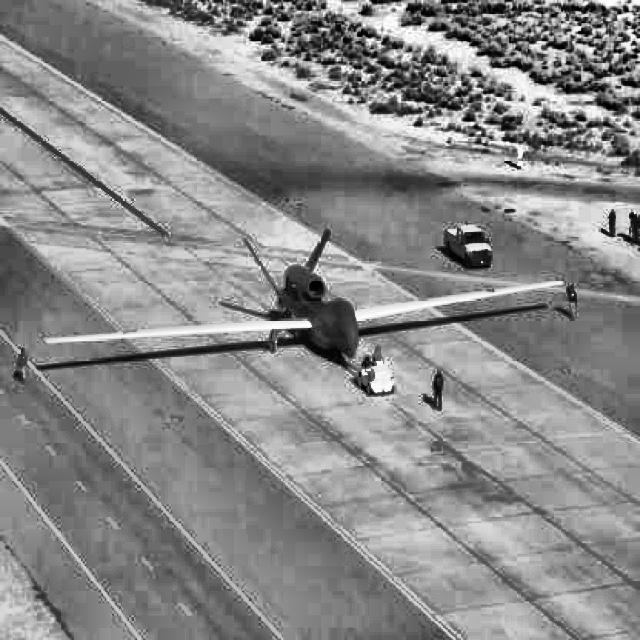RQ4: (43, 229, 563, 365)
